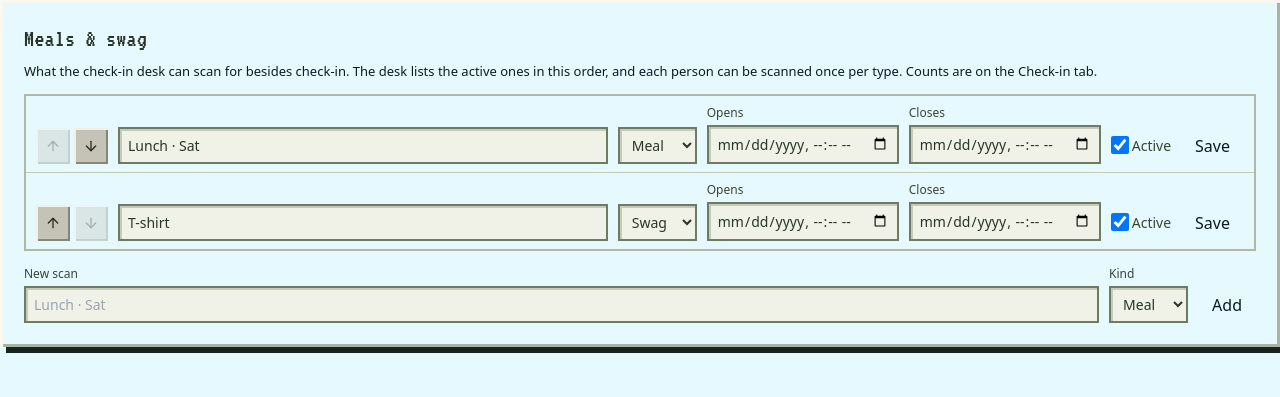
Scenario: Meals & swag card › renames and sets a window (Pacific), switches off, and reorders
Check: the 1st button "Save" is disabled, box [1181, 128, 1244, 164]
Replace the text in the field named "Name of Lunch · Sat" with "Lunch · Saturday" at (363, 145), box [118, 126, 608, 164]
Type "2027-01-16T11:30" into the field named "Lunch · Sat opens" at (803, 144), box [707, 124, 899, 164]
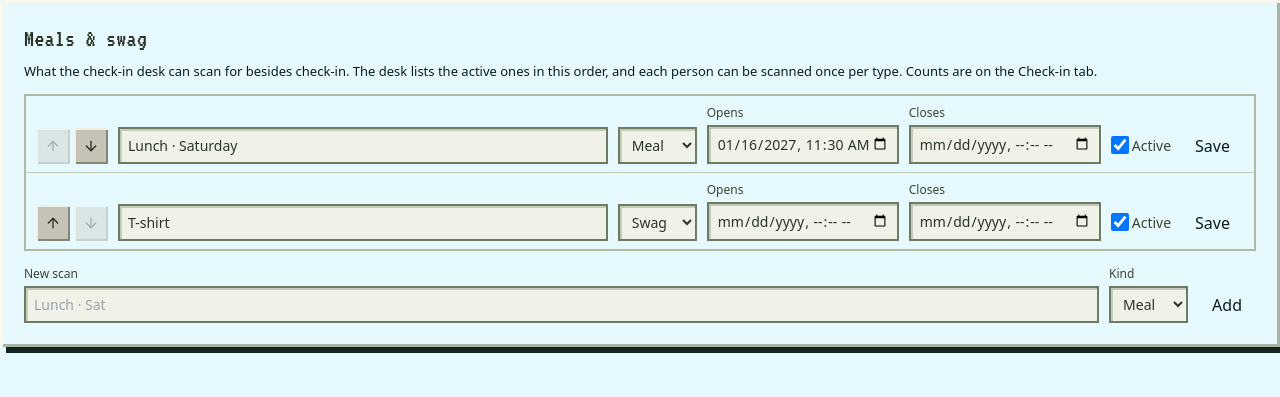
Type "2027-01-16T11:00" into the field named "Lunch · Sat closes" at (1005, 144), box [909, 124, 1101, 164]
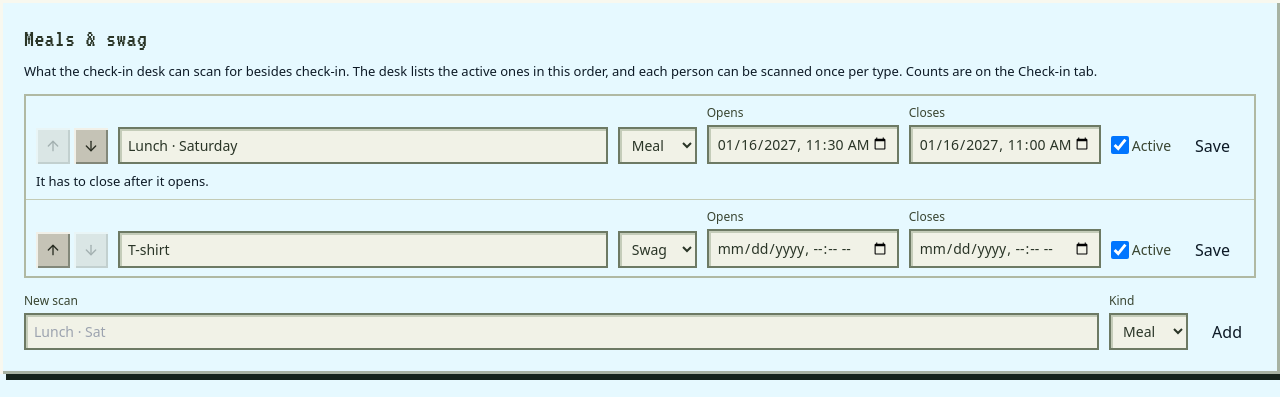
Check: the 1st button "Save" is disabled, box [1181, 128, 1244, 164]
Check: the message shows "close after", box [36, 172, 209, 190]
Replace the text in the field named "Lunch · Sat closes" with "2027-01-16T13:30" at (1005, 144), box [909, 124, 1101, 164]
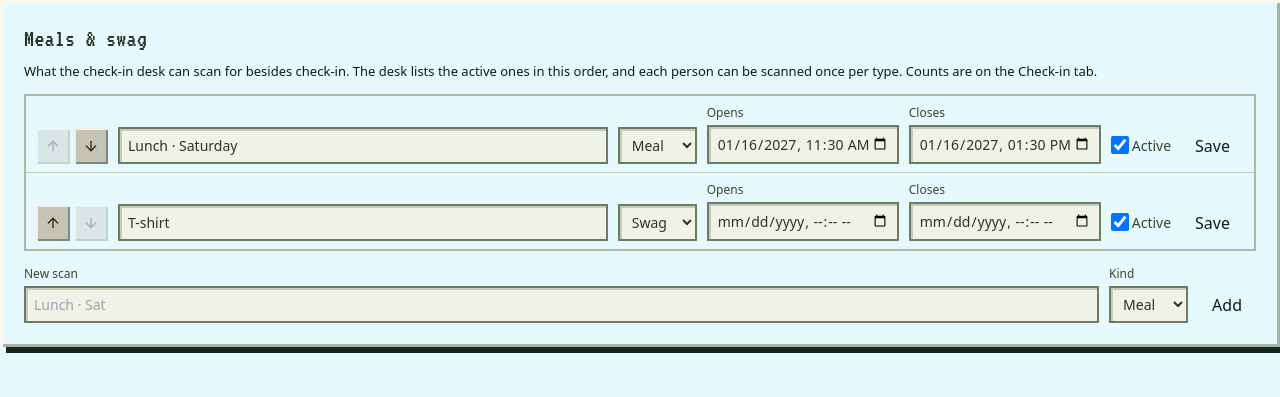
Click the 1st button "Save" at (1213, 146), box [1181, 128, 1244, 164]
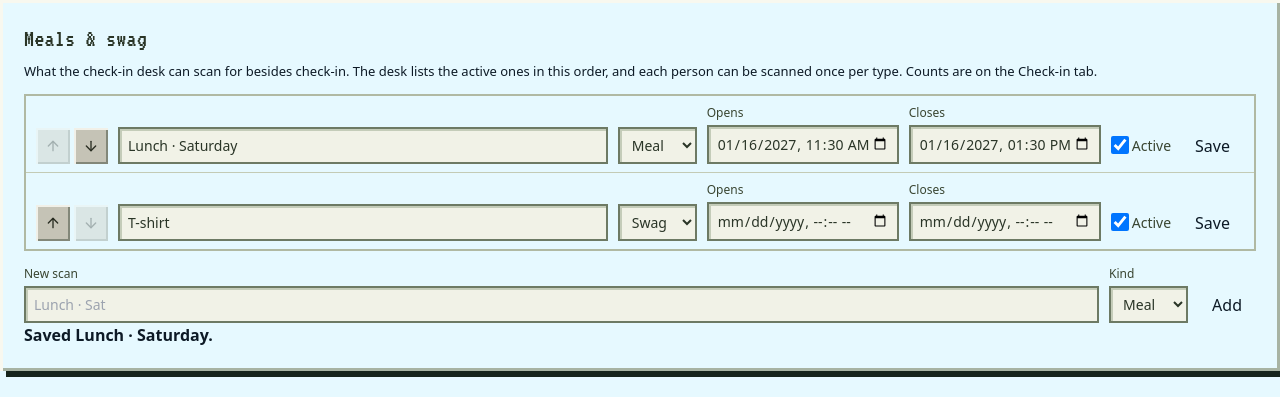
Check: the text "Saved Lunch · Saturday." is shown, box [24, 324, 213, 346]
Click the 2nd checkbox labelled "Active" at (1120, 222), box [1111, 213, 1129, 231]
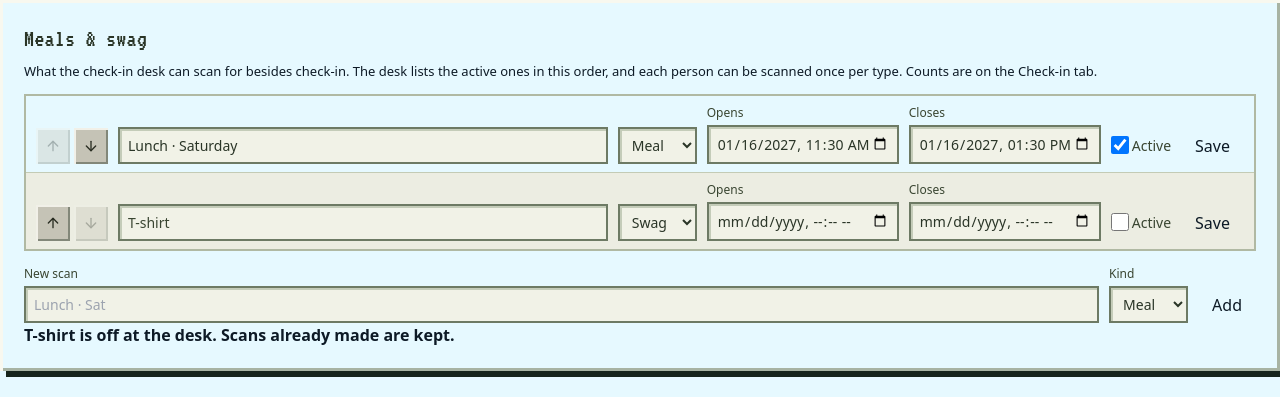
Check: the text "T-shirt is off at the desk. Scans already made are kept." is shown, box [24, 324, 455, 346]
Click the button named "Move T-shirt up" at (53, 222), box [36, 204, 70, 240]
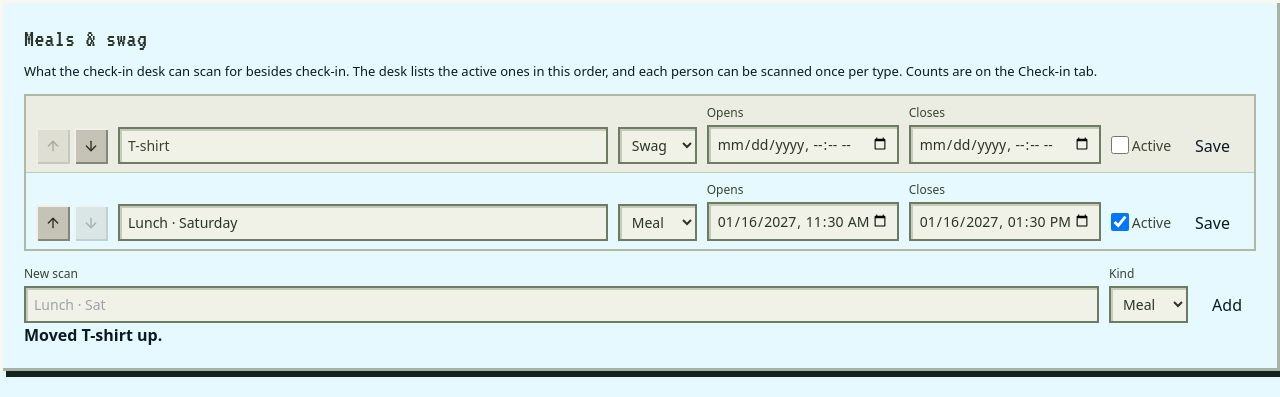
Check: the text "Moved T-shirt up." is shown, box [24, 324, 162, 346]
